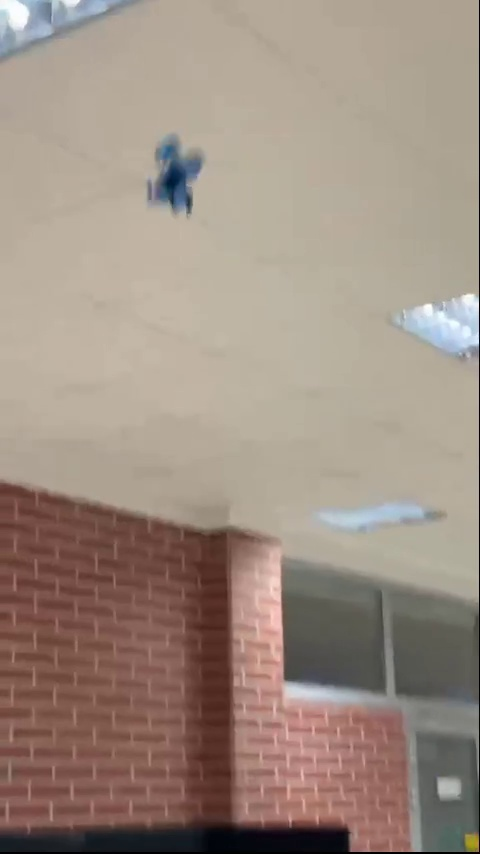drone: (148, 141, 201, 205)
